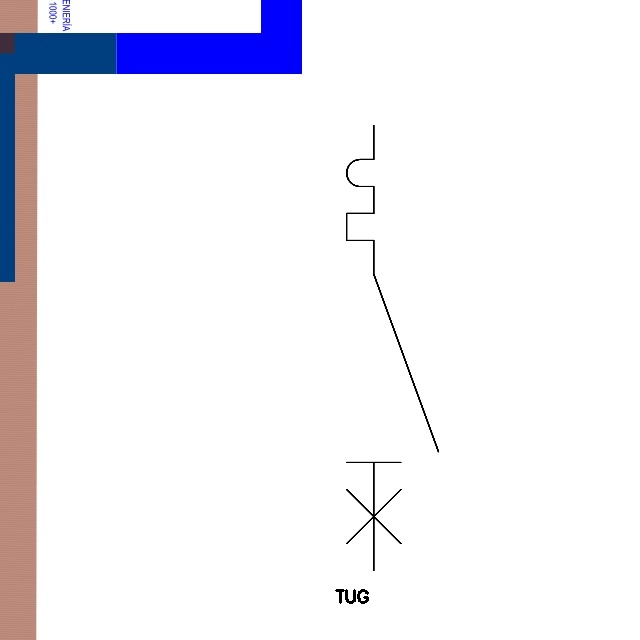interruptor_termomagnetico: (335, 114, 449, 582)
